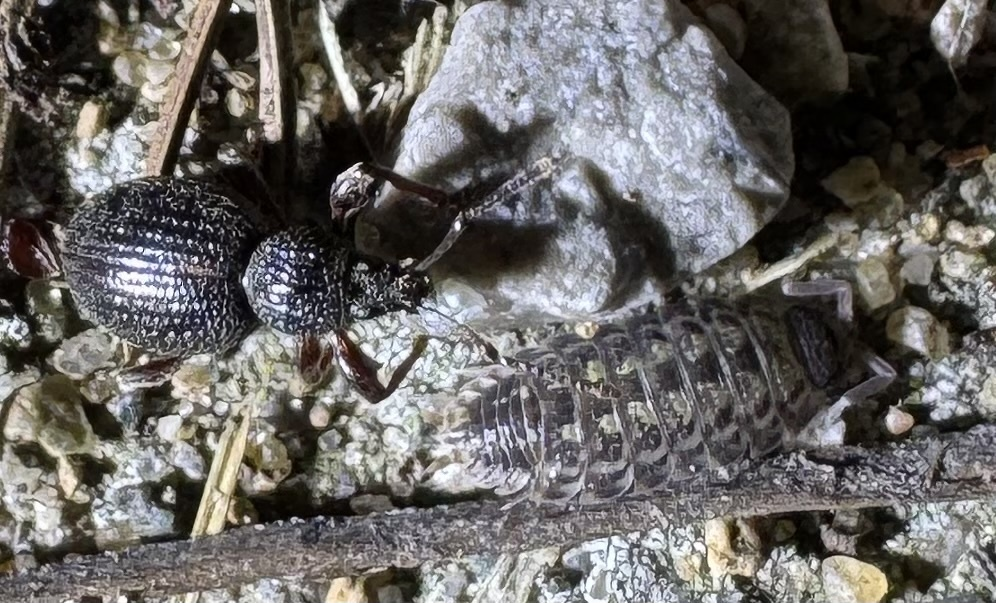weevils: (0, 41, 571, 475)
